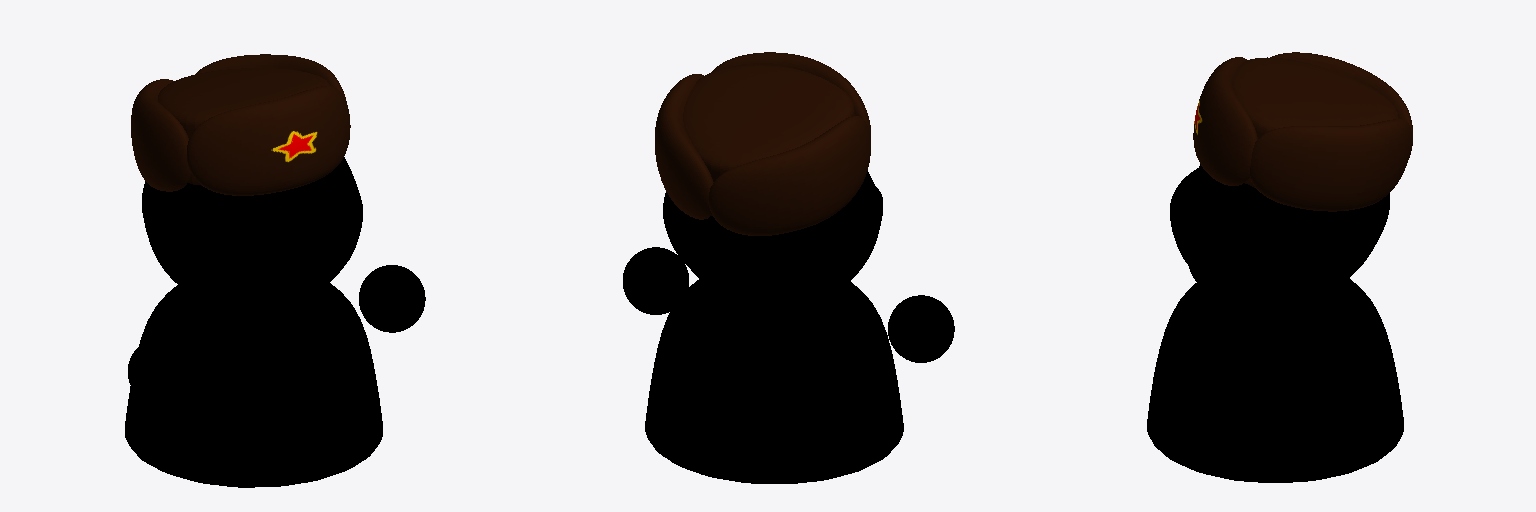
3 renders of one model, left to right at view 1: azimuth 30°, elevation 25°; view 2: azimuth 150°, elevation 25°; view 3: azimuth 270°, elevation 25°, orthographic.
Parts seen in each view (by area): view 1: polySurface5polySurface5; view 2: polySurface5polySurface5; view 3: polySurface5polySurface5.
Boxes of the visible parts, x1,y1,x2,y2 form: polySurface5polySurface5: [125, 54, 425, 487]; polySurface5polySurface5: [623, 52, 954, 483]; polySurface5polySurface5: [1147, 52, 1412, 482].
Size of the model in its own units: 2.24 by 2.5 by 1.69.
Materials: 4 (1 with a texture image).